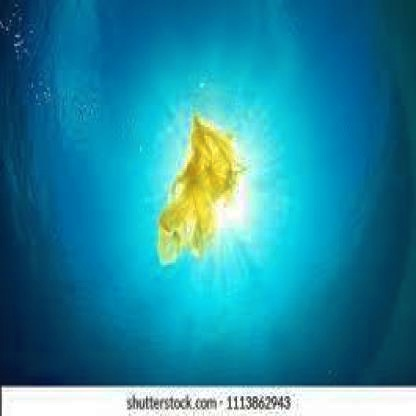pbag: (157, 114, 245, 267)
